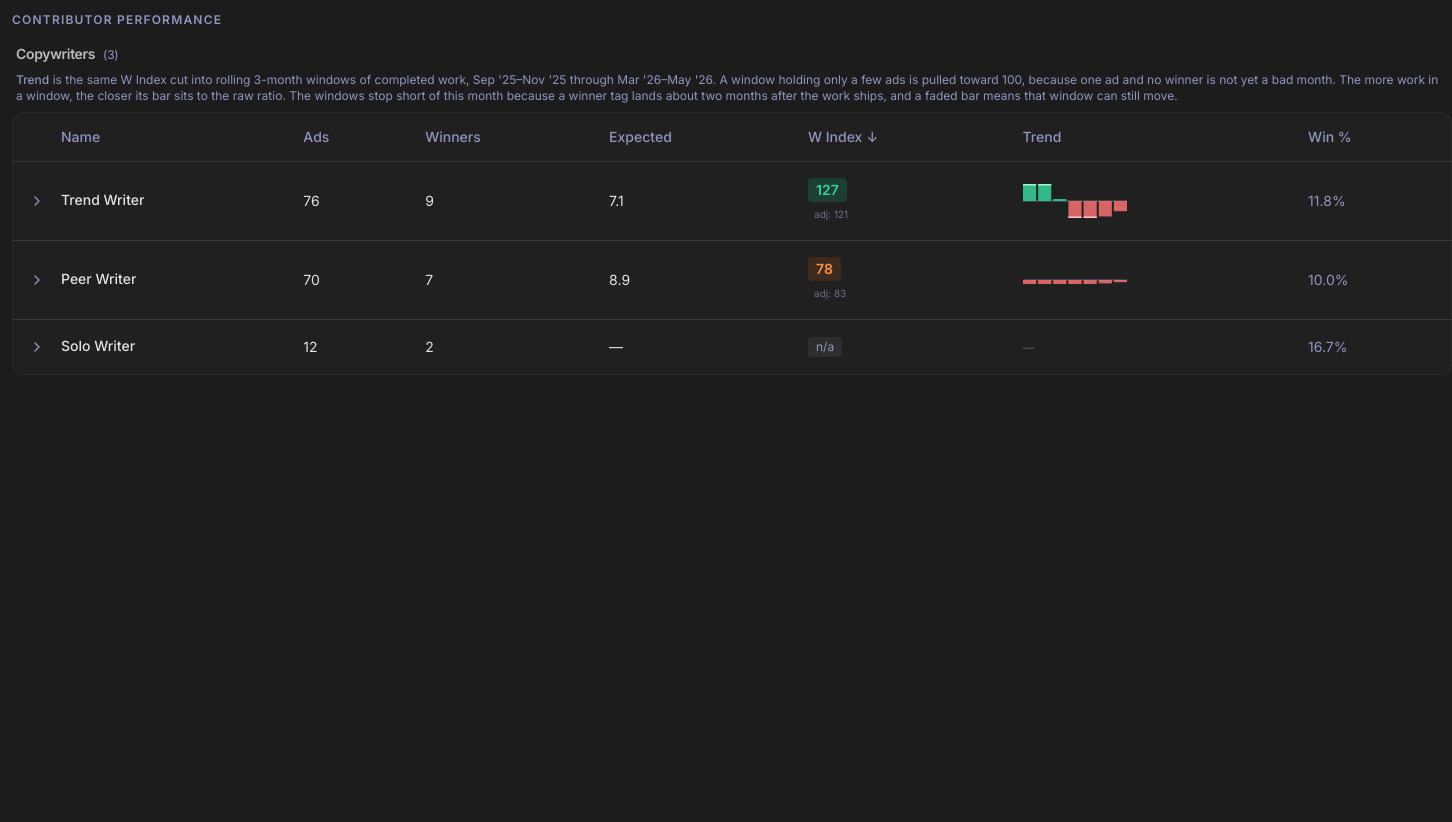
Test: craft-role W Index trend renders › expanding a row shows the windows as numbers that match the bars
This screenshot has width=1452, height=822.
Click the text "Trend Writer": (732, 200) [13,161,1451,240]
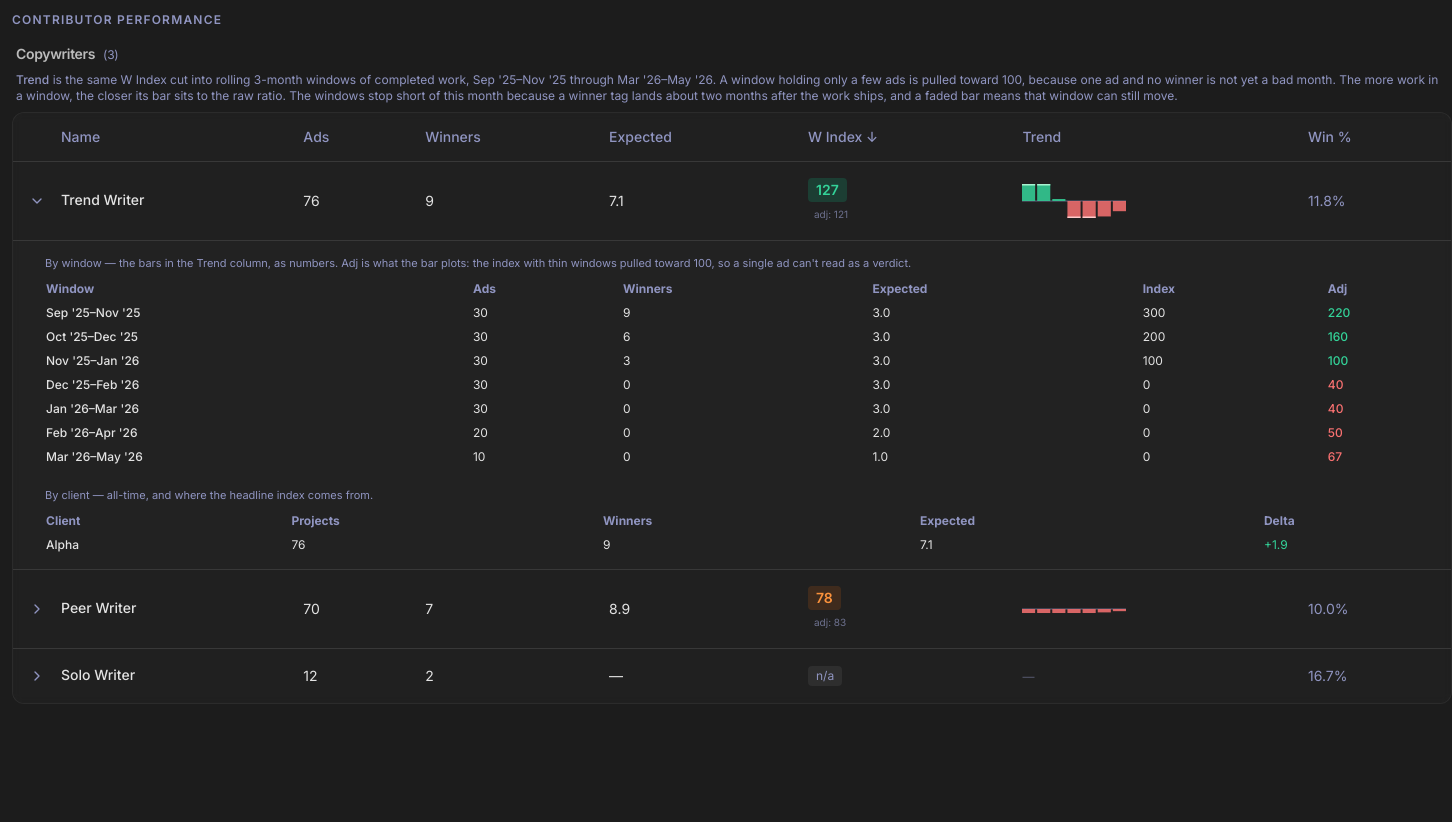
Check: the column heading "Delta" is shown, box [1263,508,1419,532]
